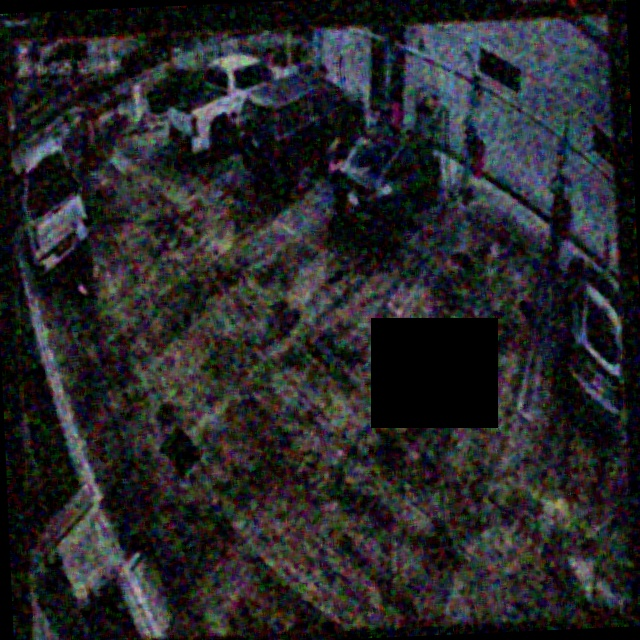Car: (236, 69, 367, 192), (331, 119, 443, 254), (166, 49, 293, 156)
